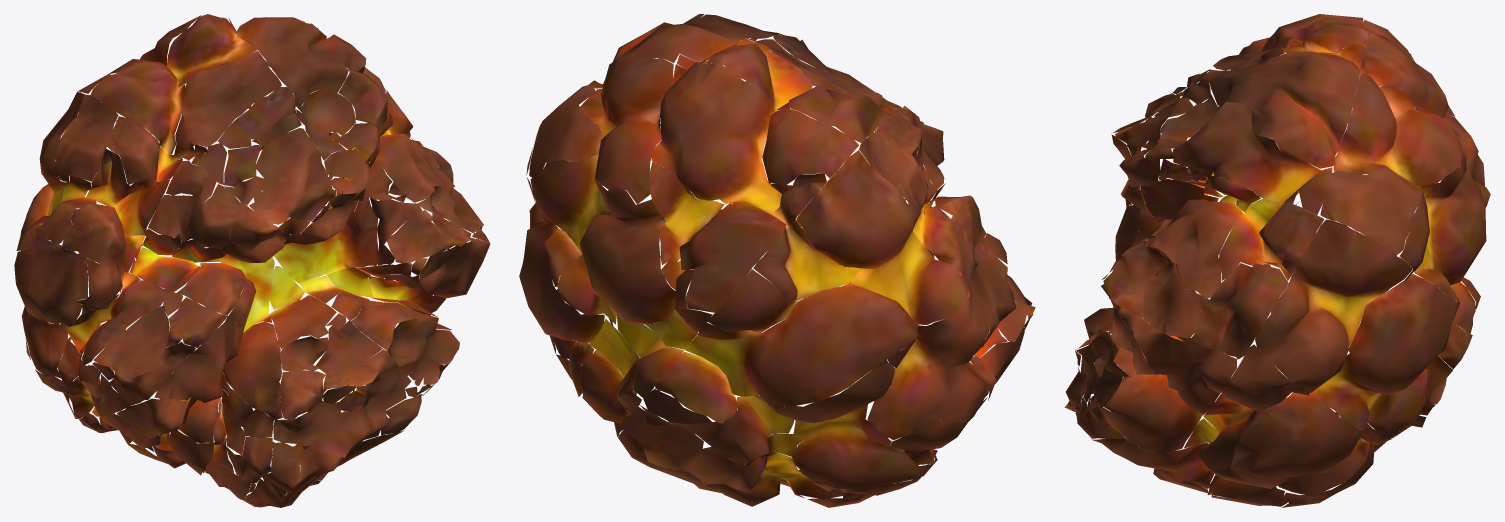
The model's file is meteor-projectile.glb.
3 renders of one model, left to right at view 1: azimuth 30°, elevation 25°; view 2: azimuth 150°, elevation 25°; view 3: azimuth 270°, elevation 25°, orthographic. The views are drawn at different scales.
Parts seen in each view (by area): view 1: tripo_node_25076ffb-2f53-41d0-bfc8-d24a30efea78; view 2: tripo_node_25076ffb-2f53-41d0-bfc8-d24a30efea78; view 3: tripo_node_25076ffb-2f53-41d0-bfc8-d24a30efea78.
Part boxes in pixels (x1,y1,x2,y2): tripo_node_25076ffb-2f53-41d0-bfc8-d24a30efea78: [14, 14, 490, 507]; tripo_node_25076ffb-2f53-41d0-bfc8-d24a30efea78: [519, 14, 1035, 507]; tripo_node_25076ffb-2f53-41d0-bfc8-d24a30efea78: [1064, 14, 1490, 507].
Bounding box in the file's own units: 0.9757 × 0.9801 × 0.8215.
Materials: 1 (1 with a texture image).
